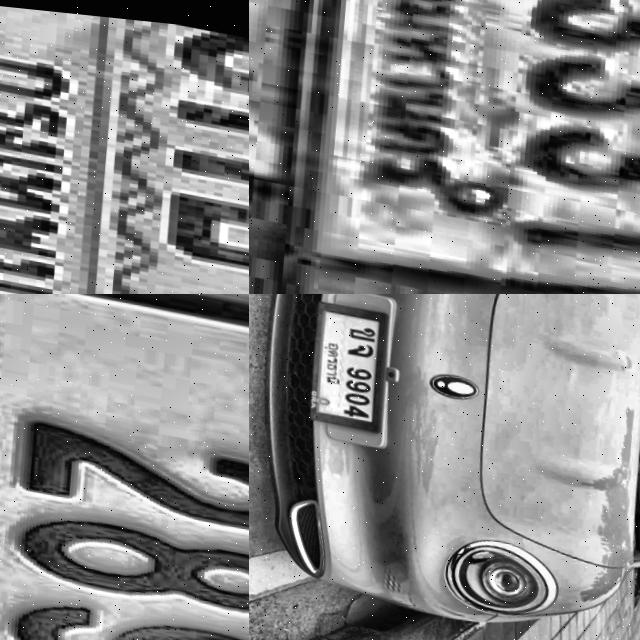license-plate: (270, 0, 640, 294), (0, 294, 249, 640), (0, 0, 249, 294), (307, 299, 390, 430)
